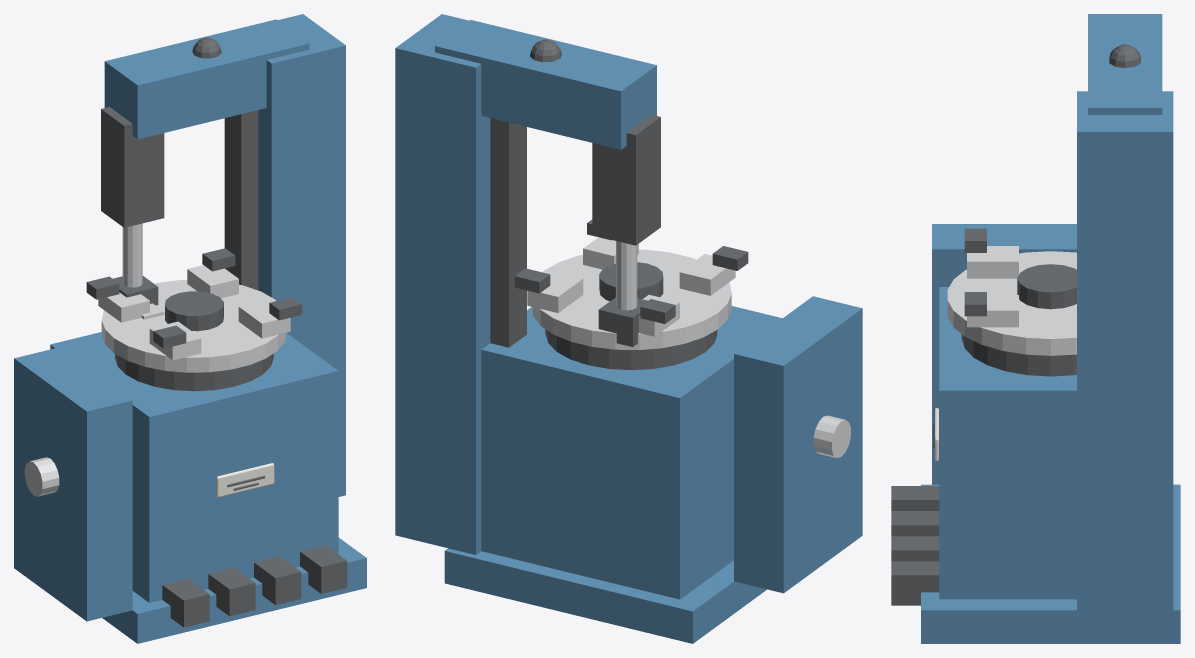
File: tyreChanger.glb
3 views of the same model, side by side, from view 1: azimuth 30°, elevation 25°; view 2: azimuth 150°, elevation 25°; view 3: azimuth 270°, elevation 25° (orthographic). The views are drawn at different scales.
Parts seen in each view (by area): view 1: car-repair-garage-and-mot-workshop-tyre-changer, turntable-spin/steel, turntable-spin/charcoal; view 2: car-repair-garage-and-mot-workshop-tyre-changer, turntable-spin/steel, turntable-spin/charcoal; view 3: car-repair-garage-and-mot-workshop-tyre-changer, turntable-spin/steel, turntable-spin/charcoal.
Boxes of the visible parts, bbox=[...] form: car-repair-garage-and-mot-workshop-tyre-changer: bbox=[14, 14, 366, 643]; turntable-spin/steel: bbox=[98, 265, 290, 372]; turntable-spin/charcoal: bbox=[86, 248, 302, 348]; car-repair-garage-and-mot-workshop-tyre-changer: bbox=[395, 14, 862, 643]; turntable-spin/steel: bbox=[527, 237, 735, 349]; turntable-spin/charcoal: bbox=[514, 219, 748, 323]; car-repair-garage-and-mot-workshop-tyre-changer: bbox=[891, 14, 1180, 643]; turntable-spin/steel: bbox=[947, 246, 1076, 355]; turntable-spin/charcoal: bbox=[964, 228, 1076, 316].
Size of the model in its own units: 1.19 by 1.66 by 0.7799.
